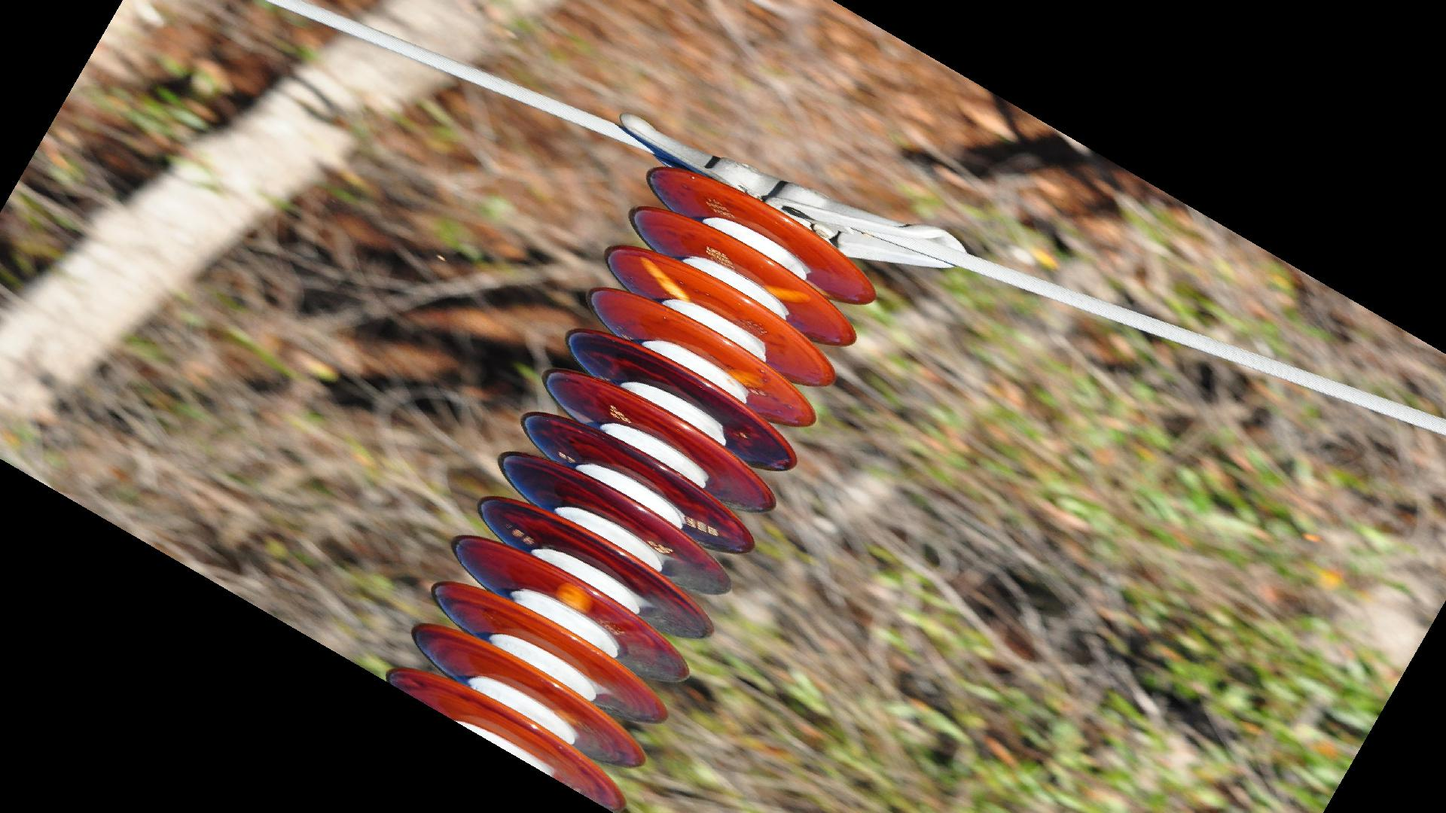insulator: (377, 158, 882, 813)
insulator_flashover: (636, 254, 692, 303), (552, 576, 596, 617), (764, 280, 816, 306), (726, 365, 767, 391)
